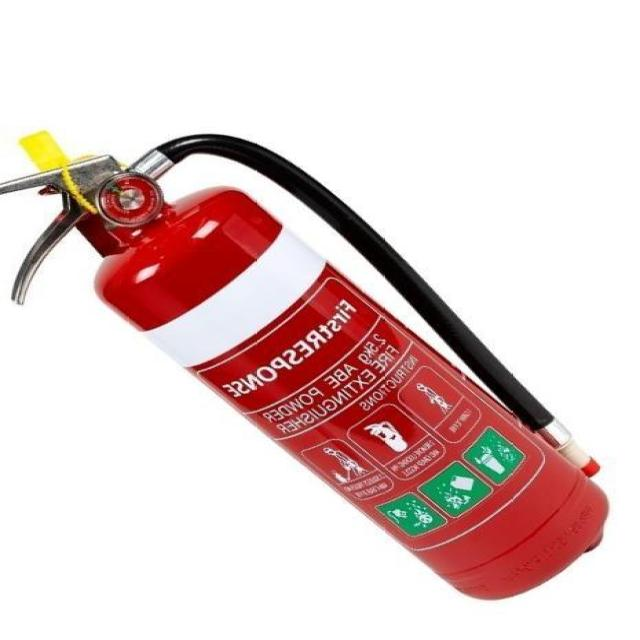fire_extinguisher: (0, 125, 612, 604)
